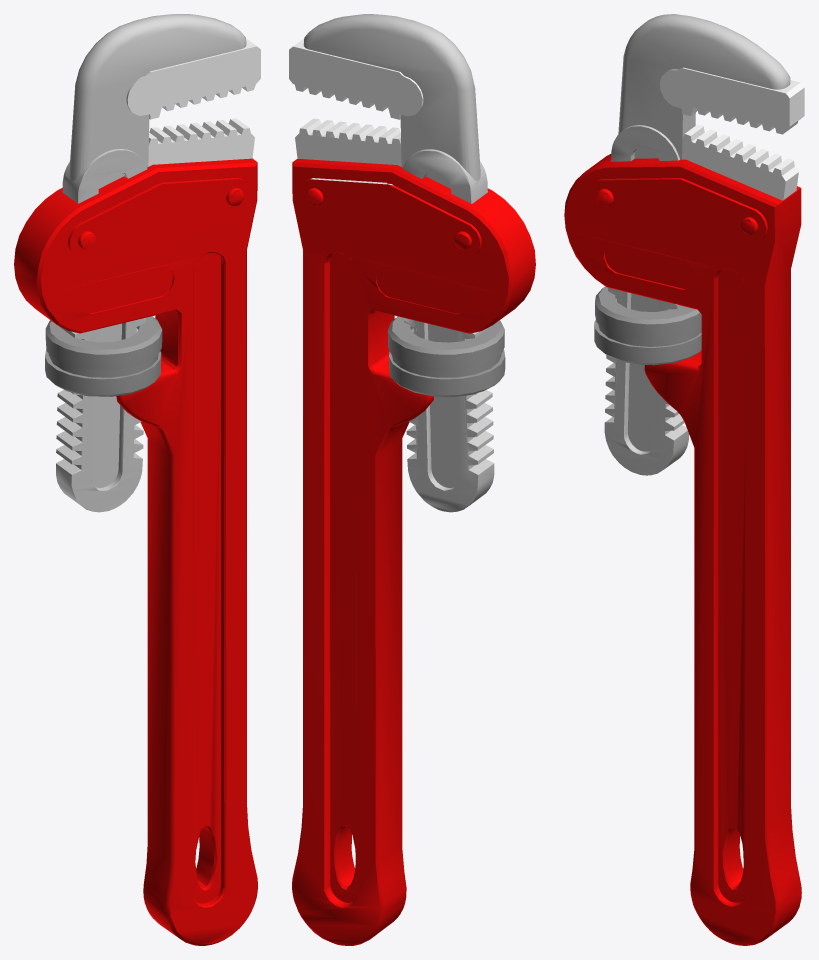
File: wrench.fbx
3 views of the same model, side by side, from view 1: azimuth 30°, elevation 25°; view 2: azimuth 150°, elevation 25°; view 3: azimuth 330°, elevation 25° (orthographic). The views are drawn at different scales.
Parts seen in each view (by area): view 1: G-__555771; view 2: G-__555771; view 3: G-__555771.
Part boxes in pixels (<box>): G-__555771: <box>14,14,260,945</box>; G-__555771: <box>289,14,535,945</box>; G-__555771: <box>564,14,804,945</box>.
Bounding box in the file's own units: 72.43 × 282 × 32.12.
